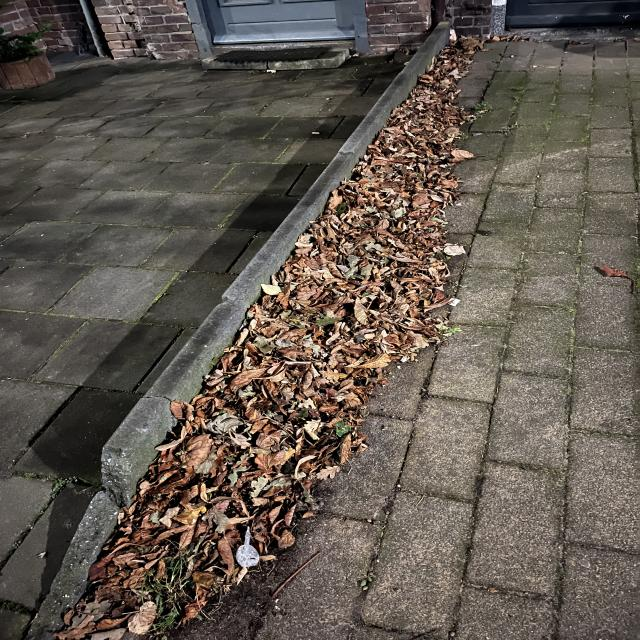leaves: (54, 37, 483, 628)
pavement: (1, 61, 399, 630), (467, 21, 634, 615), (287, 362, 513, 638)
